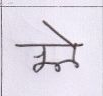o_matra: (63, 34, 80, 66)
